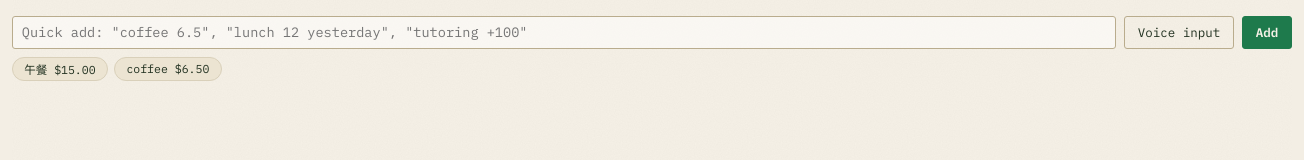
Test: frequent suggestion chips › renders chips and fills the input on click
The image size is (1304, 160).
Click the button with aria-label "Fill 午餐". click: (60, 69)
box: [12, 57, 108, 81]
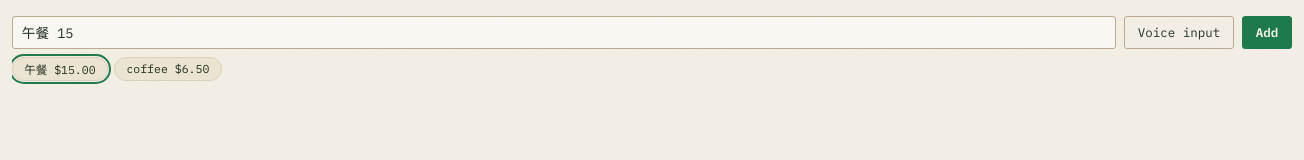
Result: the field holds "午餐 15" at [12, 16, 1116, 49]
Click the button with aria-label "Fill coffee". click: (168, 69)
box: [114, 57, 222, 81]
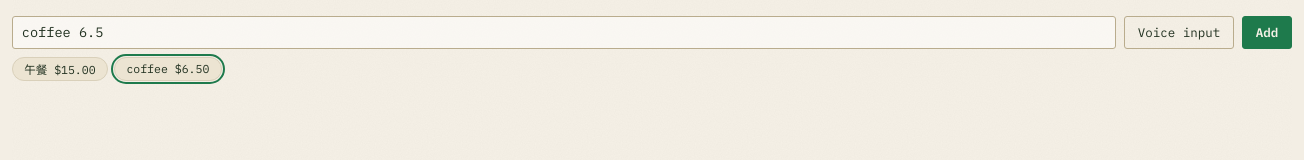
Result: the field holds "coffee 6.5" at [12, 16, 1116, 49]
